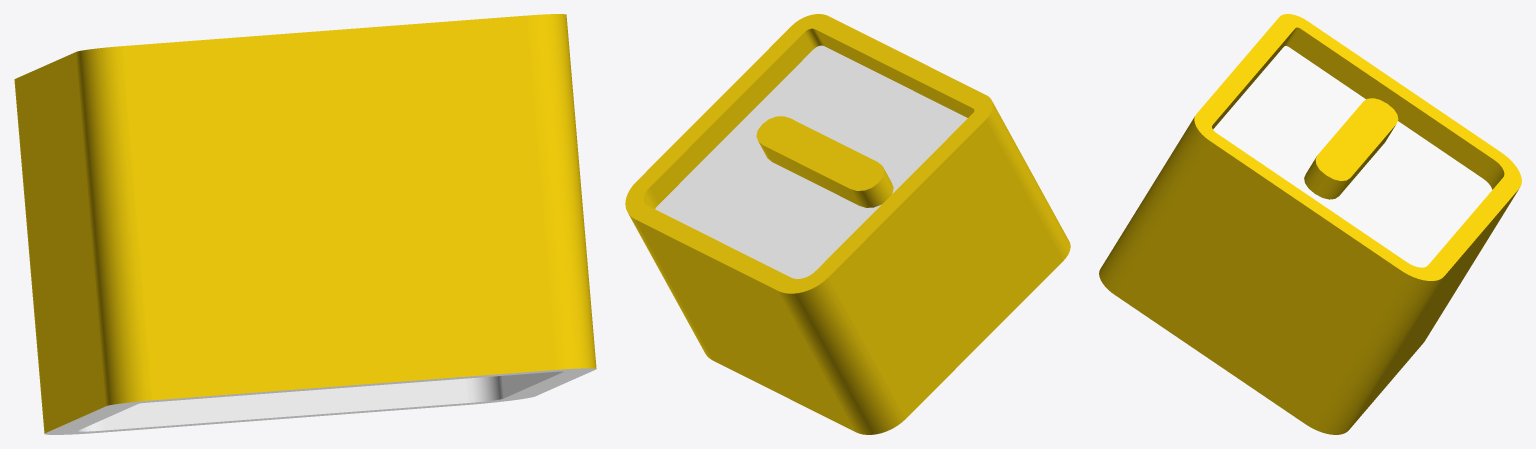
File: Playblock_yellow.fbx
The picture shows the model from 3 angles, left to right: view 1: azimuth 30°, elevation 25°; view 2: azimuth 150°, elevation 25°; view 3: azimuth 270°, elevation 25°; orthographic projection. The views are drawn at different scales.
Parts seen in each view (by area): view 1: Timothy1; view 2: Timothy1, I1; view 3: Timothy1, I1.
Part boxes in pixels (<box>): Timothy1: <box>14,14,596,434</box>; Timothy1: <box>625,14,1070,434</box>; I1: <box>756,116,893,207</box>; Timothy1: <box>1099,14,1521,434</box>; I1: <box>1304,98,1398,199</box>.
Bounding box in the file's own units: 1368 × 1161 × 1498.
